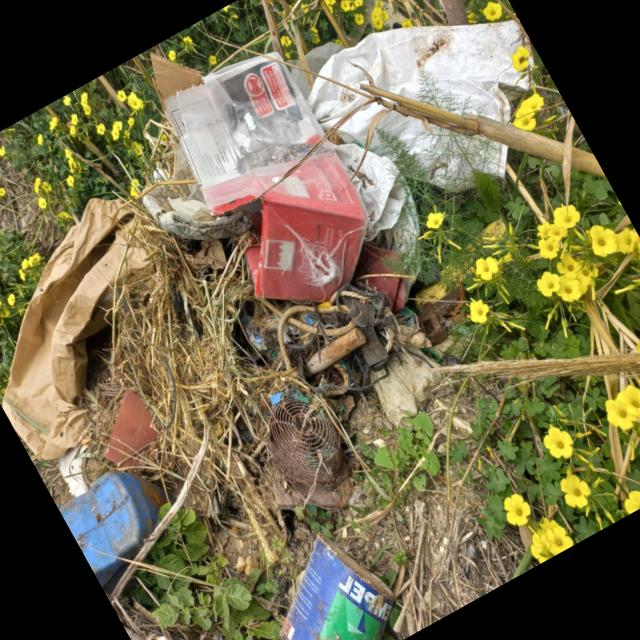Can: (278, 532, 397, 640)
Carton: (149, 48, 365, 302), (1, 198, 160, 464)
Other litter: (234, 216, 508, 483), (144, 139, 255, 240), (103, 387, 165, 472), (338, 0, 406, 46), (58, 444, 89, 497)
Other plastic: (285, 18, 535, 304), (59, 470, 179, 596)
